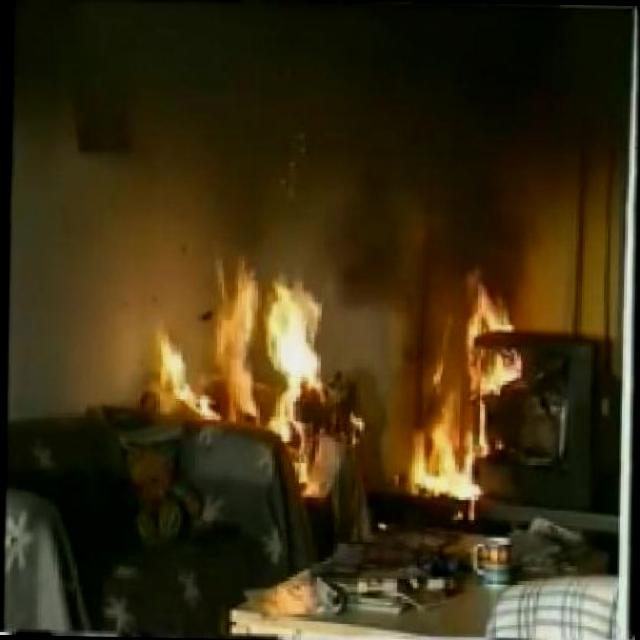fire: (144, 229, 530, 503)
